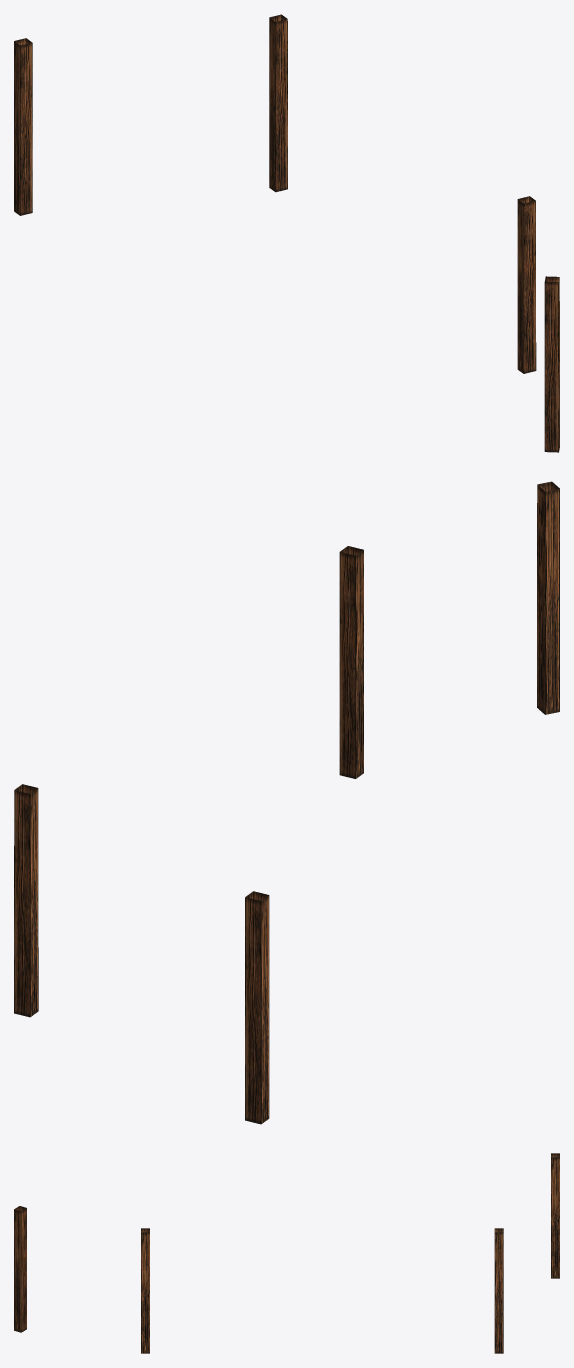
The model's file is LAKETOWN_EXTERIOR_PS_LT_BEAMS_3838376.fbx.
The picture shows the model from 3 angles, top to bottom: view 1: azimuth 30°, elevation 25°; view 2: azimuth 150°, elevation 25°; view 3: azimuth 270°, elevation 25°; orthographic projection. The views are drawn at different scales.
Parts seen in each view (by area): view 1: LAKETOWN_EXTERIOR_PS_LT_BEAMS_3838376; view 2: LAKETOWN_EXTERIOR_PS_LT_BEAMS_3838376; view 3: LAKETOWN_EXTERIOR_PS_LT_BEAMS_3838376.
Part boxes in pixels (x1,y1,x2,y2): LAKETOWN_EXTERIOR_PS_LT_BEAMS_3838376: [14, 14, 559, 452]; LAKETOWN_EXTERIOR_PS_LT_BEAMS_3838376: [14, 481, 559, 1124]; LAKETOWN_EXTERIOR_PS_LT_BEAMS_3838376: [14, 1153, 559, 1353].
Size of the model in its own units: 43969 by 31371 by 127950.
Materials: 1 (1 with a texture image).
